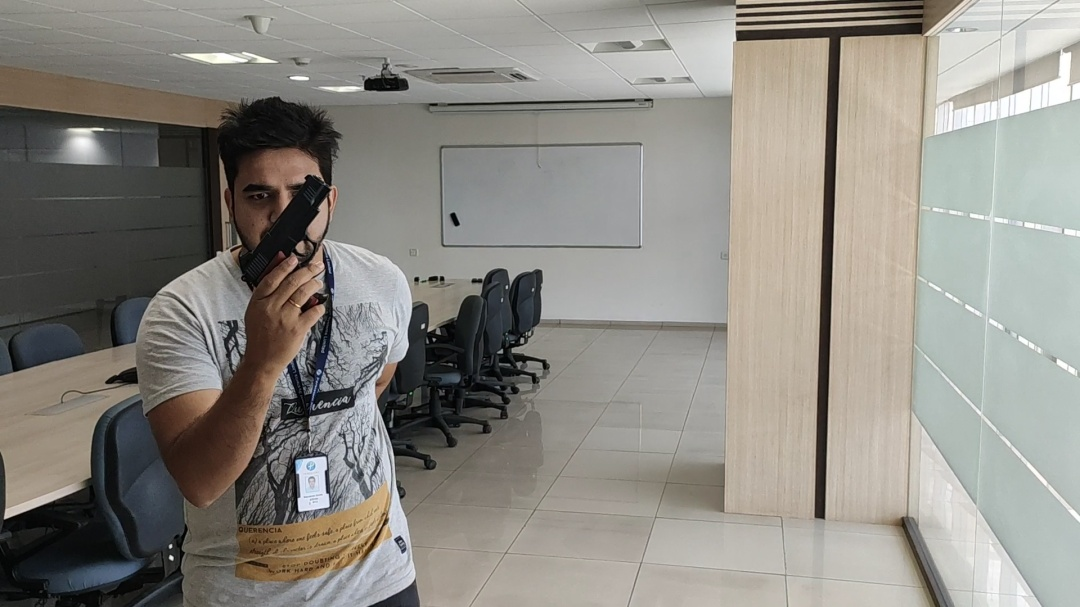gun: (336, 67, 729, 564)
